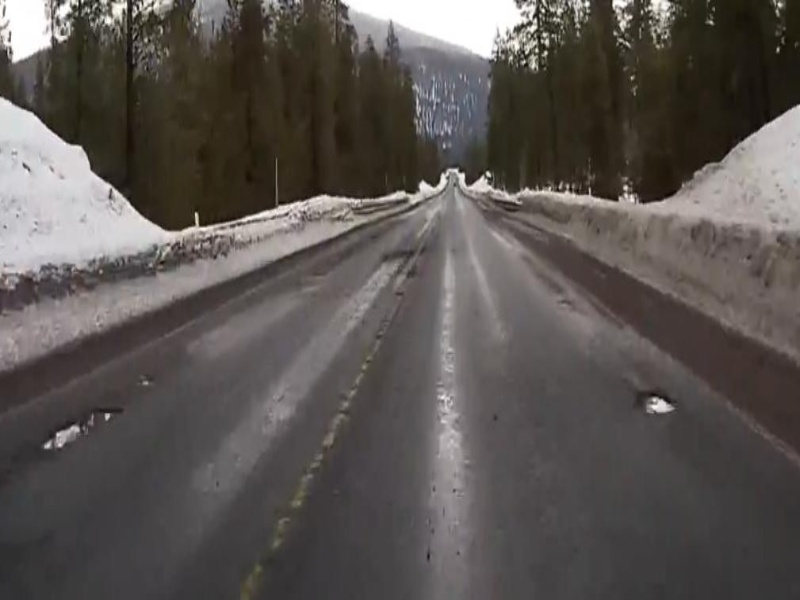pothole: (40, 403, 125, 455), (633, 390, 682, 420)
